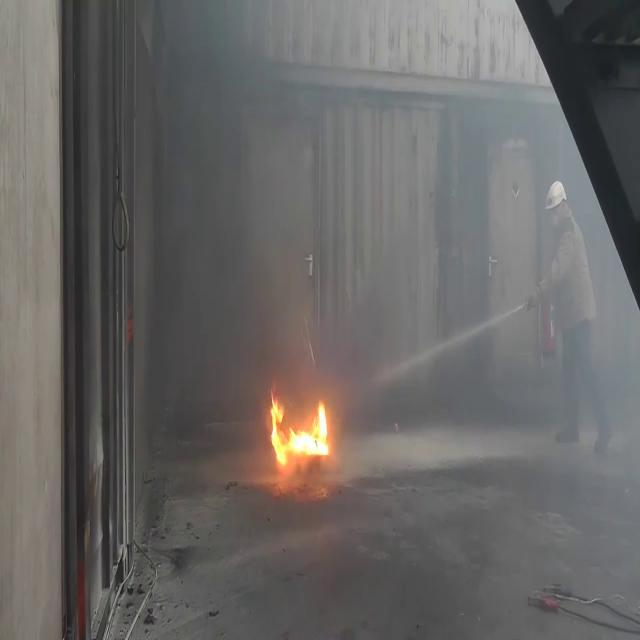Fire: (267, 386, 333, 473)
Smoke: (147, 12, 340, 372)
